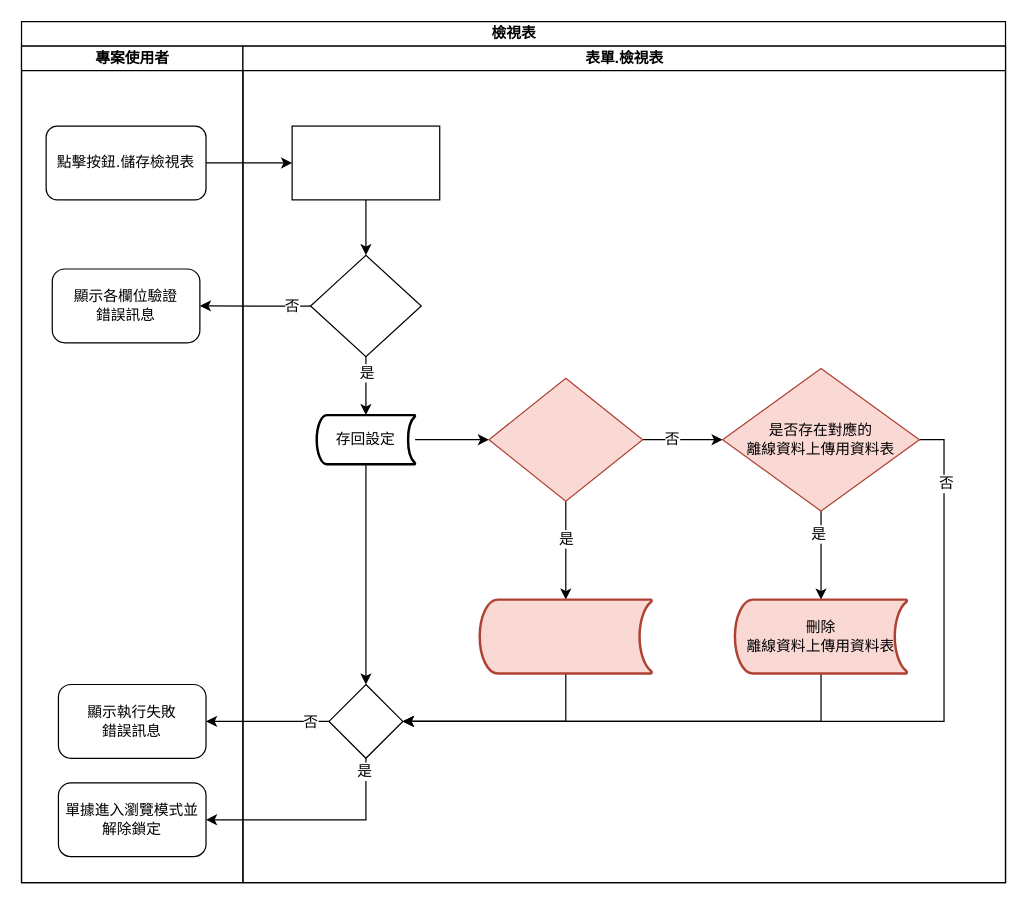
This 1027x904 diagram has some shape labels left out. The shapes that lost their labels are listed below. From the top down, each one's box as (x1, y1, x2, y2) in pixels, then its label:
(291, 125, 440, 200): 驗證各欄位 是否符合檢控
(309, 254, 421, 357): 驗證成功
(488, 377, 643, 501): 離線資料需上傳 為已勾選
(478, 598, 653, 674): 建立 離線資料上傳用資料表
(328, 683, 403, 758): 執行成功
